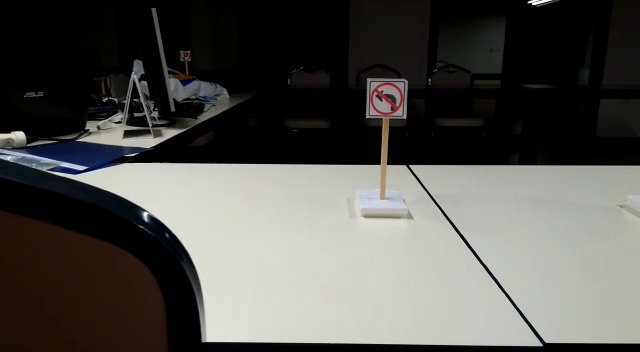sola_donulmez: (364, 76, 407, 120)
